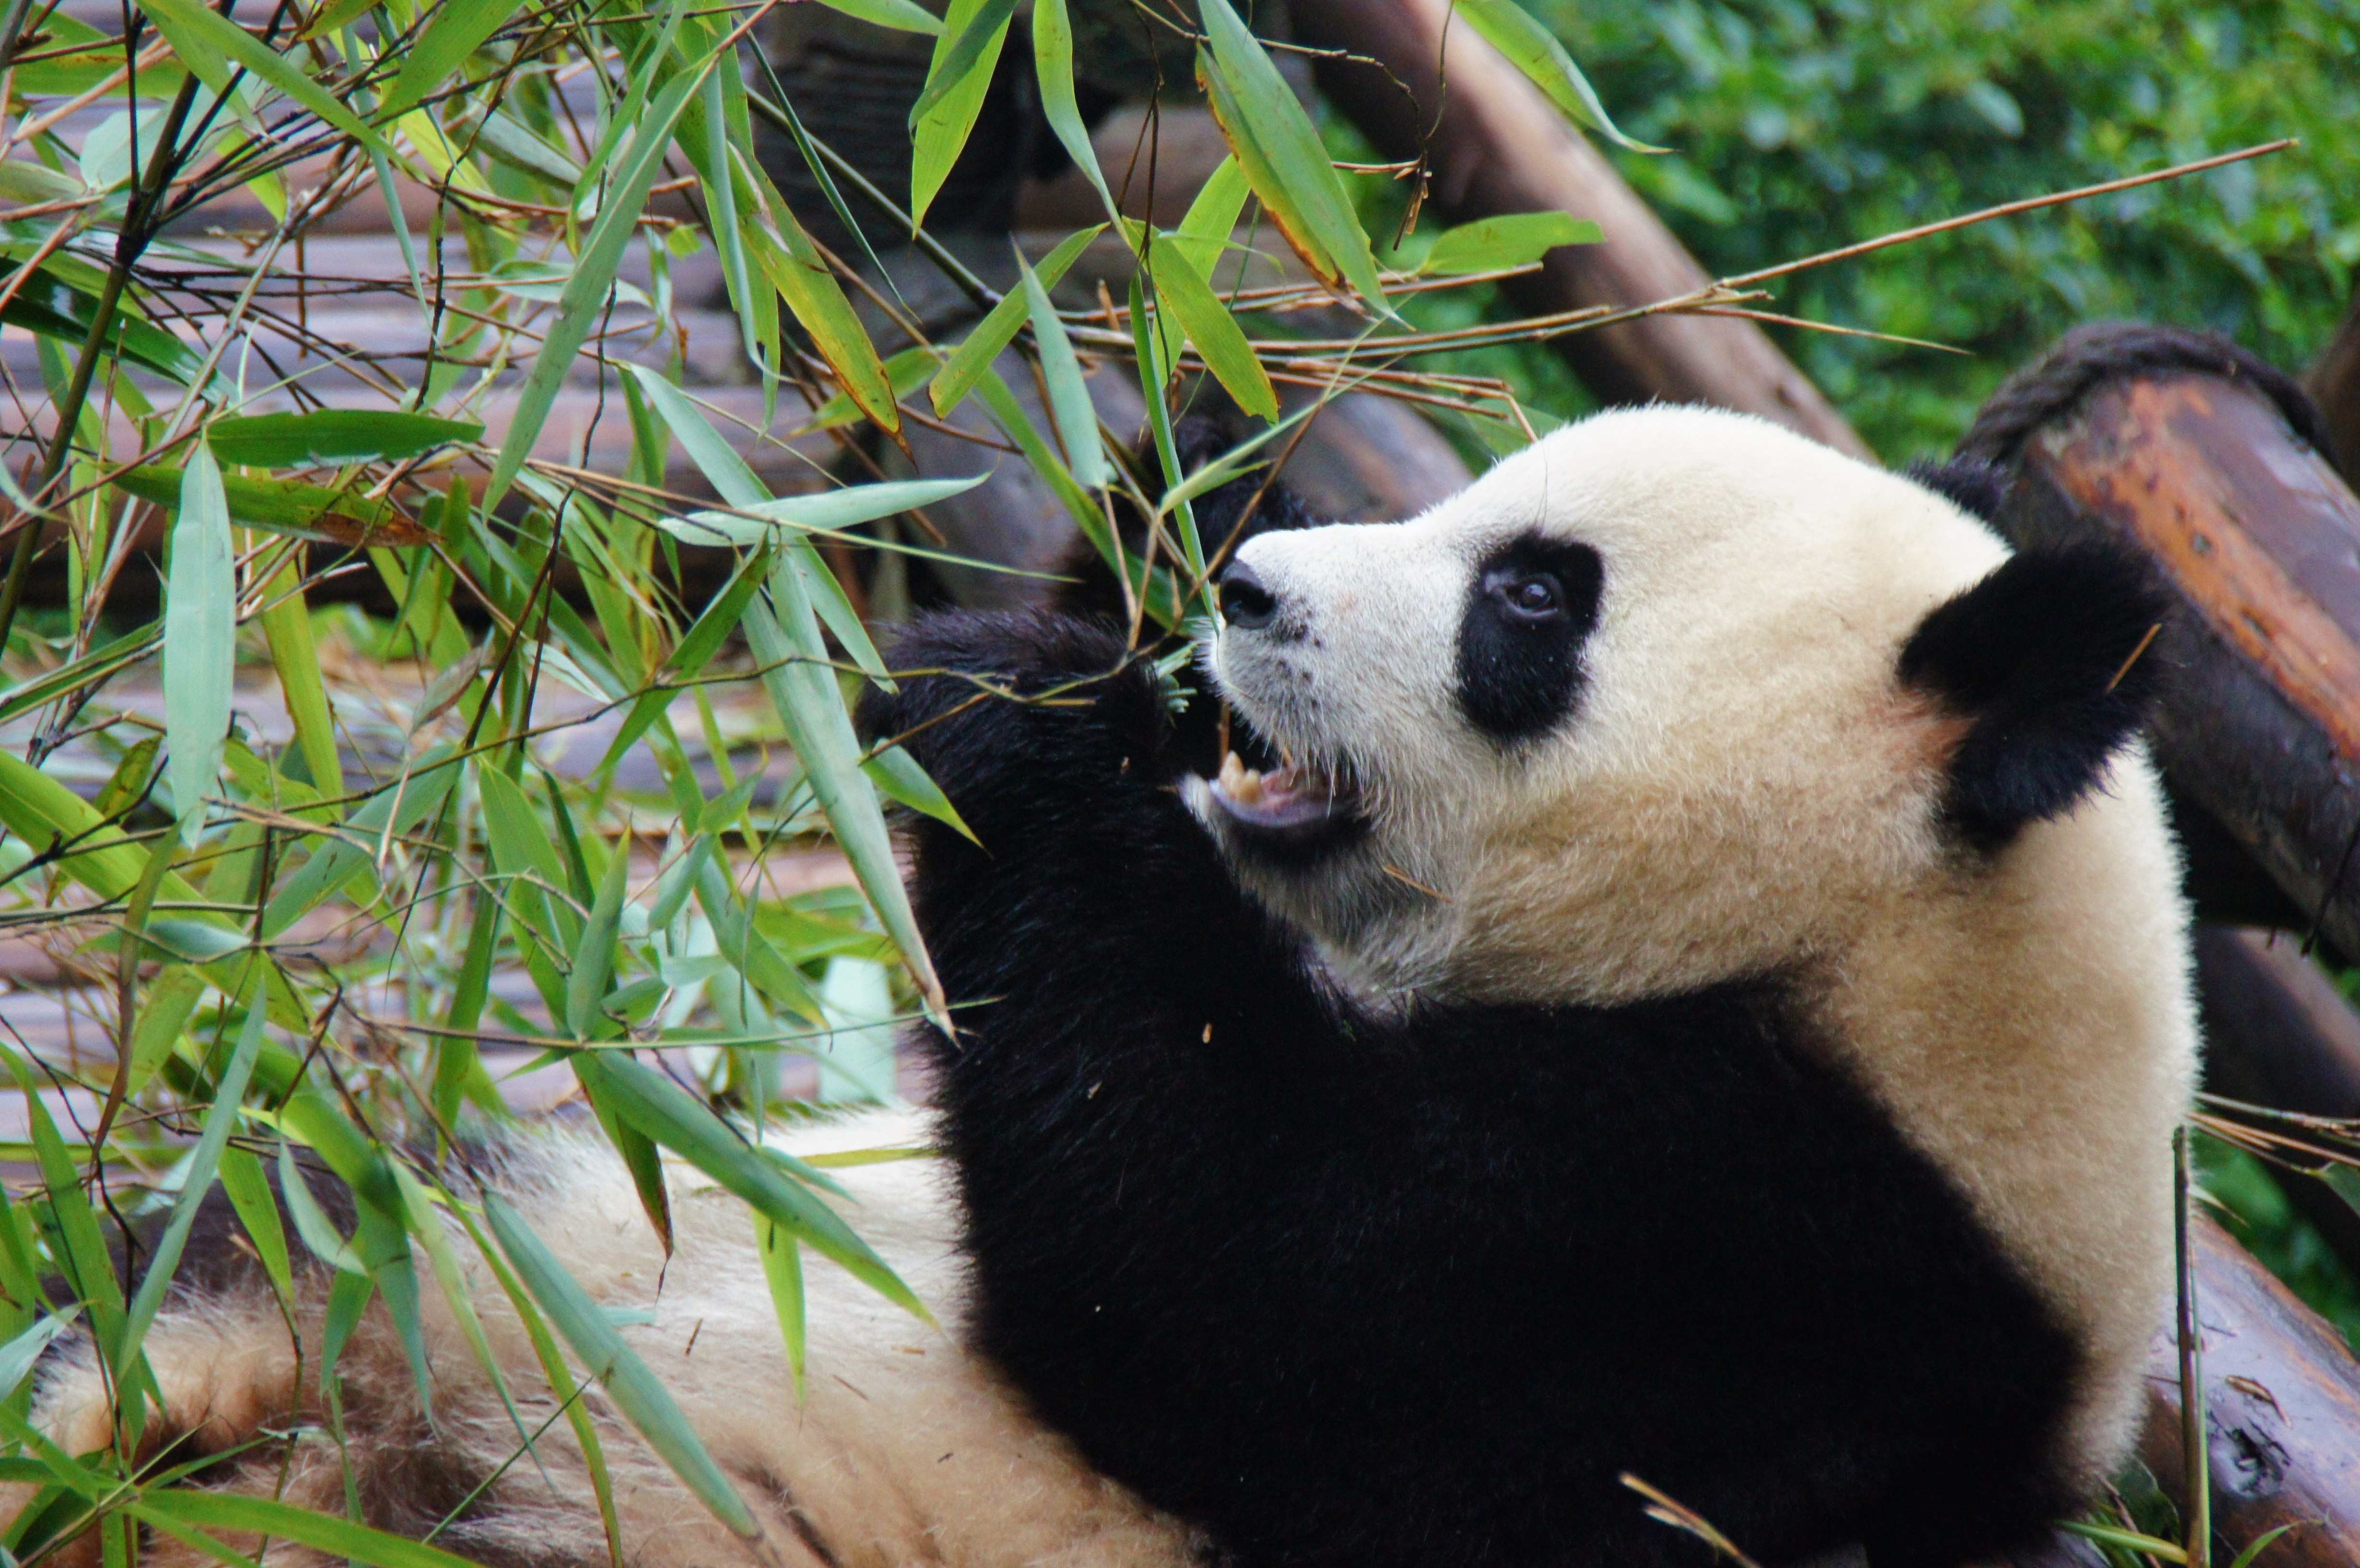panda: (47, 175, 2218, 1564)
